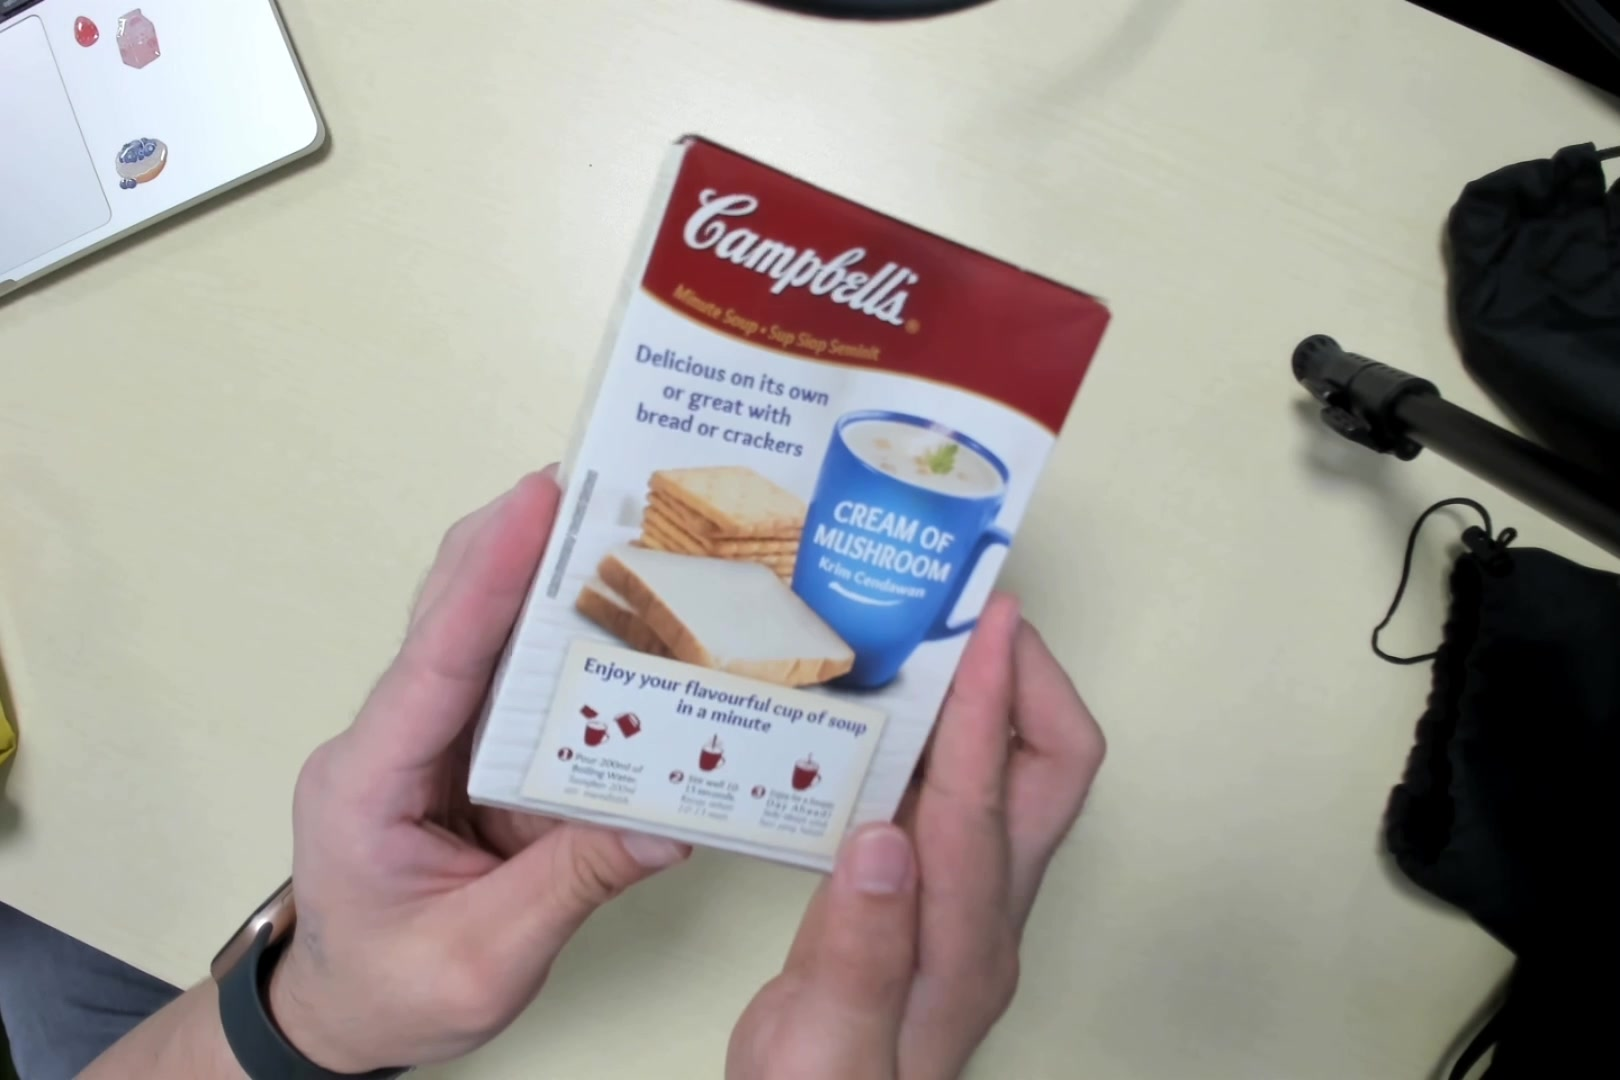InstantMeals_0-99g_Halal_NonHealthy: (475, 139, 1102, 877)
